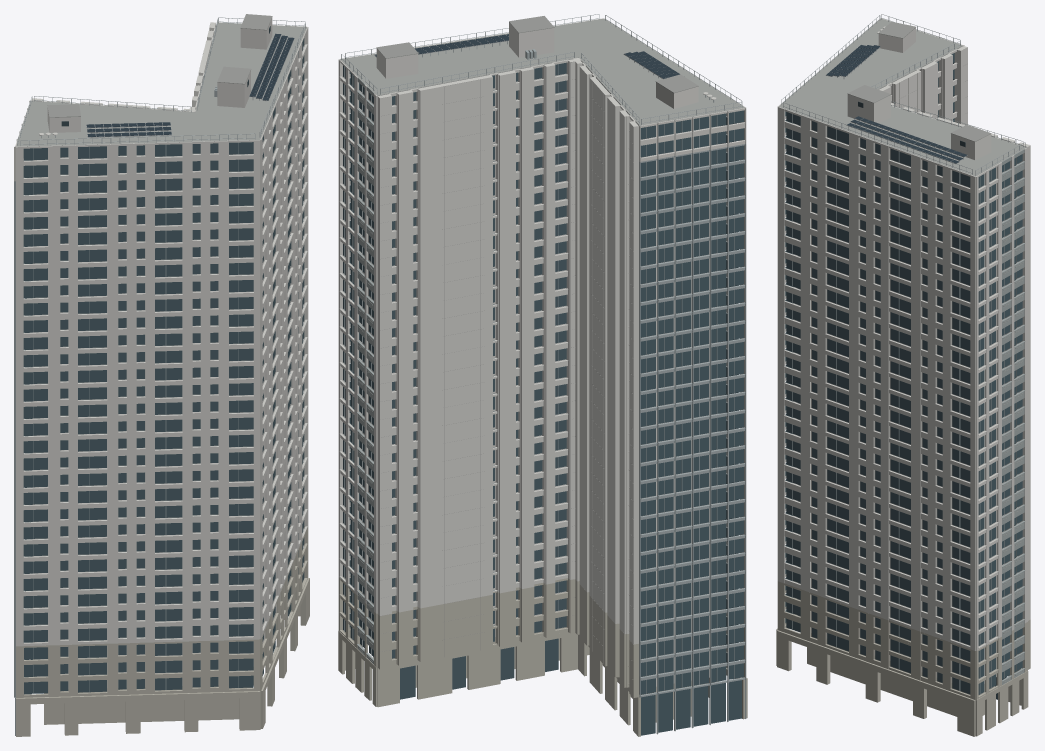
The model's file is bespoke-maple-xi-206.glb.
3 renders of one model, left to right at view 1: azimuth 30°, elevation 25°; view 2: azimuth 150°, elevation 25°; view 3: azimuth 270°, elevation 25°, orthographic. The views are drawn at different scales.
Parts seen in each view (by area): view 1: Maple206_inset_structural_body, Maple206_NE_small0_glass, Maple206_ground_recessed_lobby, Maple206_individual_L_roof_slab, Maple206_NE_small0_sash, Maple206_NE_long_PV_cell, Maple206_NE_gray_spandrel_seams, Maple206_NE_long_PV_frame; view 2: Maple206_inset_structural_body, Maple206_NE_small0_glass, Maple206_NE_small0_sash, Maple206_ground_recessed_lobby, Maple206_individual_L_roof_slab, Maple206_NE_gray_spandrel_seams, Maple206_NE_small0_sill, Maple206_NE_long_PV_cell; view 3: Maple206_inset_structural_body, Maple206_NE_small0_glass, Maple206_ground_recessed_lobby, Maple206_individual_L_roof_slab, Maple206_NE_small0_sill, Maple206_NE_small0_sash, Maple206_NE_gray_spandrel_seams, Maple206_NE_long_PV_cell, Maple206_NE_long_PV_frame.
Boxes of the visible parts, <box> form: Maple206_inset_structural_body: <box>14,18,308,688</box>; Maple206_NE_small0_glass: <box>23,38,304,694</box>; Maple206_ground_recessed_lobby: <box>16,525,309,736</box>; Maple206_individual_L_roof_slab: <box>16,22,306,146</box>; Maple206_NE_small0_sash: <box>14,17,305,735</box>; Maple206_NE_long_PV_cell: <box>86,33,294,136</box>; Maple206_NE_gray_spandrel_seams: <box>47,14,272,117</box>; Maple206_NE_long_PV_frame: <box>86,34,294,137</box>; Maple206_inset_structural_body: <box>338,18,746,686</box>; Maple206_NE_small0_glass: <box>343,62,743,735</box>; Maple206_NE_small0_sash: <box>341,14,746,734</box>; Maple206_ground_recessed_lobby: <box>338,574,747,736</box>; Maple206_individual_L_roof_slab: <box>340,18,744,125</box>; Maple206_NE_gray_spandrel_seams: <box>358,16,698,679</box>; Maple206_NE_small0_sill: <box>356,77,374,664</box>; Maple206_NE_long_PV_cell: <box>375,34,679,78</box>; Maple206_inset_structural_body: <box>777,18,1030,683</box>; Maple206_NE_small0_glass: <box>785,53,1022,699</box>; Maple206_ground_recessed_lobby: <box>776,566,1030,736</box>; Maple206_individual_L_roof_slab: <box>778,18,1026,176</box>; Maple206_NE_small0_sill: <box>1001,149,1025,684</box>; Maple206_NE_small0_sash: <box>781,14,1025,694</box>; Maple206_NE_gray_spandrel_seams: <box>847,22,1023,682</box>; Maple206_NE_long_PV_cell: <box>826,45,967,163</box>; Maple206_NE_long_PV_frame: <box>825,46,967,163</box>.
Size of the model in its own units: 65.96 by 112 by 44.45.
